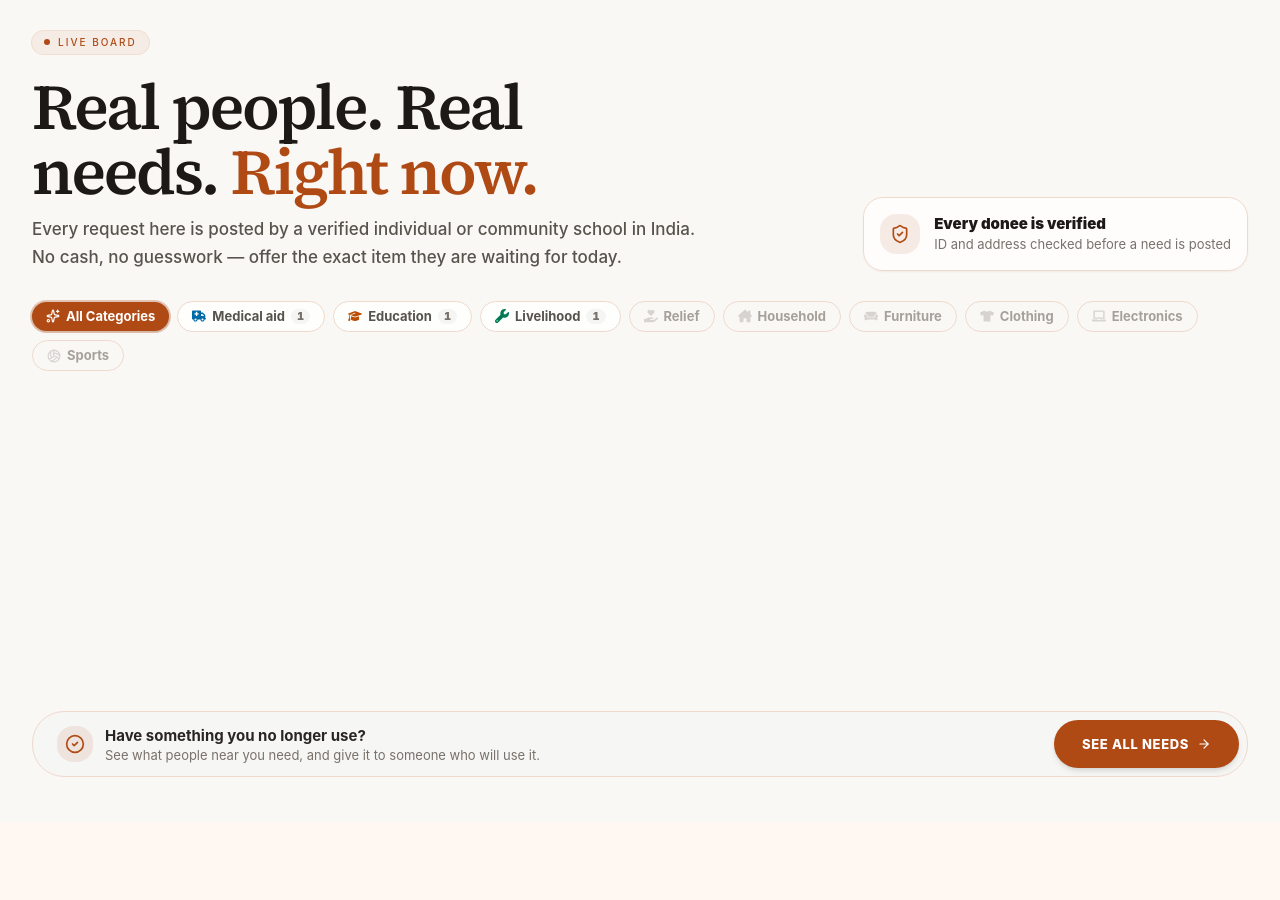
Test: LiveNeedsSection › filters cards when a category pill is clicked
Step 1. Click the button "Education 1" → [403, 316], box [333,300,472,332]
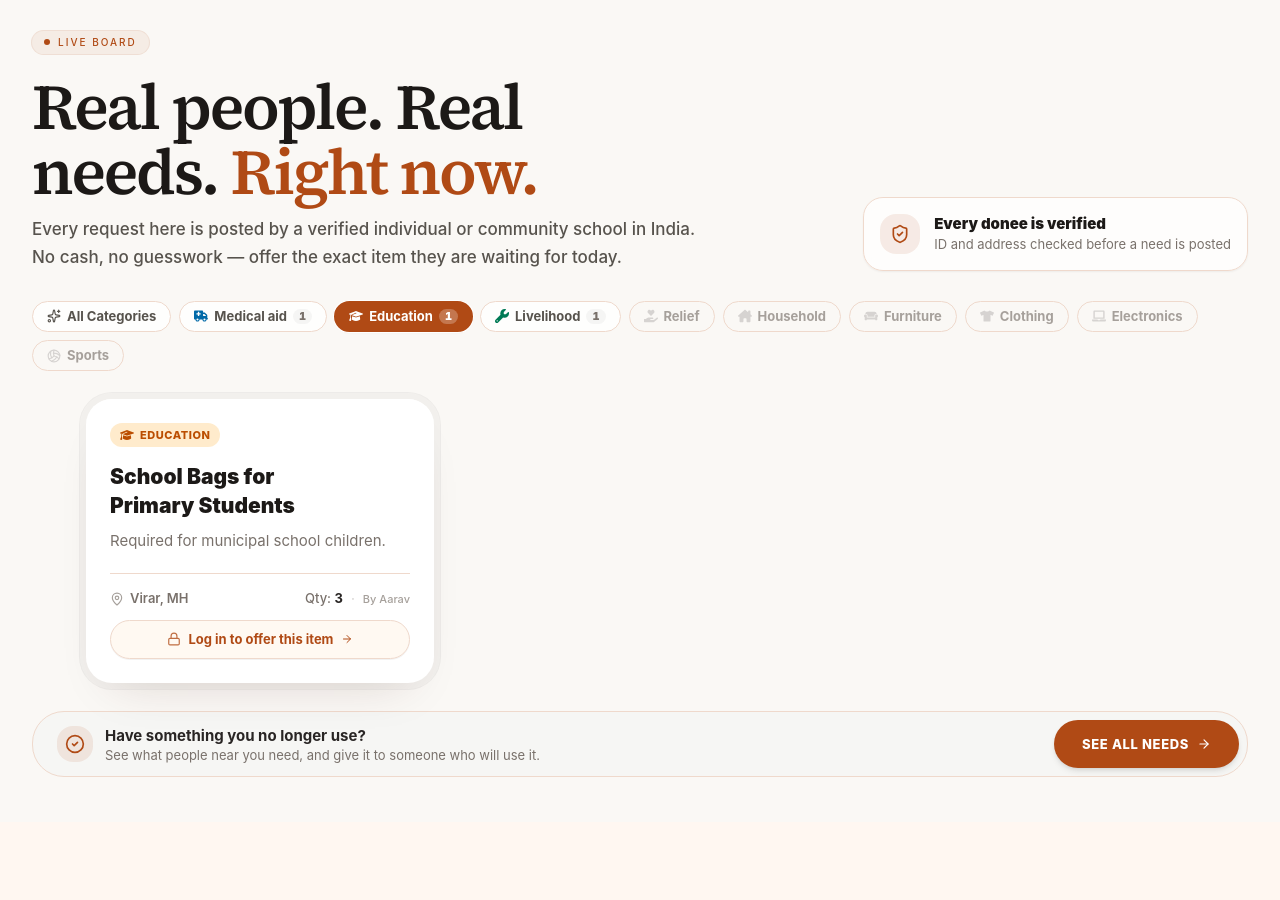
Result: the heading "School Bags for Primary Students" is shown at [110,464,295,518]
